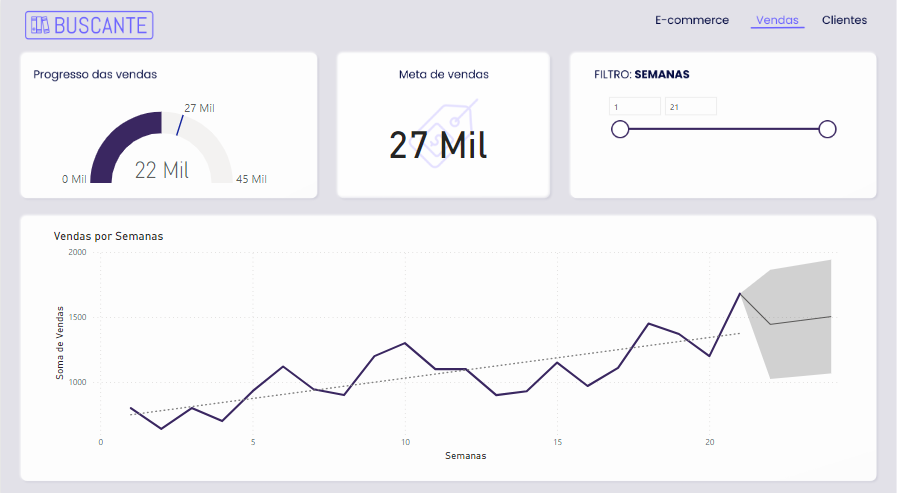

The page's visual inventory and layout, read from the dashboard file:
{"tool":"powerbi","page":{"name":"Vendas","canvas":[1280,720],"ordinal":1},"visuals":[{"type":"slicer","fields":{"Values":["Vendas por semana.Semanas"]},"box":[855.7,132.9,345.7,104.3],"z":0},{"type":"gauge","fields":{"Y":["Sum(Vendas por semana.Vendas)"],"TargetValue":["Sum(Vendas por semana.Meta de vendas)"]},"box":[57.1,132.9,352.9,142.9],"z":1},{"type":"card","fields":{"Values":["Sum(Vendas por semana.Meta de vendas)"]},"box":[498.6,148.6,251.4,110],"z":2},{"type":"lineChart","title":"Vendas por Semanas","fields":{"Y":["Sum(Vendas por semana.Vendas)"],"Category":["Vendas por semana.Semanas"]},"box":[70,331.4,1131.4,335.7],"z":3},{"type":"actionButton","box":[921.4,0,135.7,61.4],"z":4},{"type":"actionButton","box":[1151.4,11.4,100,40],"z":5}]}

Visuals, with their boxes in screenshot pixels (x1, y1, x2, y2), scaled from the page's 1280x720 canvas onto the 897x493 screenshot:
slicer - Vendas por semana.Semanas: (x1=600, y1=91, x2=842, y2=162)
gauge - Sum(Vendas por semana.Vendas) x Sum(Vendas por semana.Meta de vendas): (x1=40, y1=91, x2=287, y2=189)
card - Sum(Vendas por semana.Meta de vendas): (x1=349, y1=102, x2=526, y2=177)
"Vendas por Semanas" lineChart: (x1=49, y1=227, x2=842, y2=457)
actionButton: (x1=646, y1=0, x2=741, y2=42)
actionButton: (x1=807, y1=8, x2=877, y2=35)
